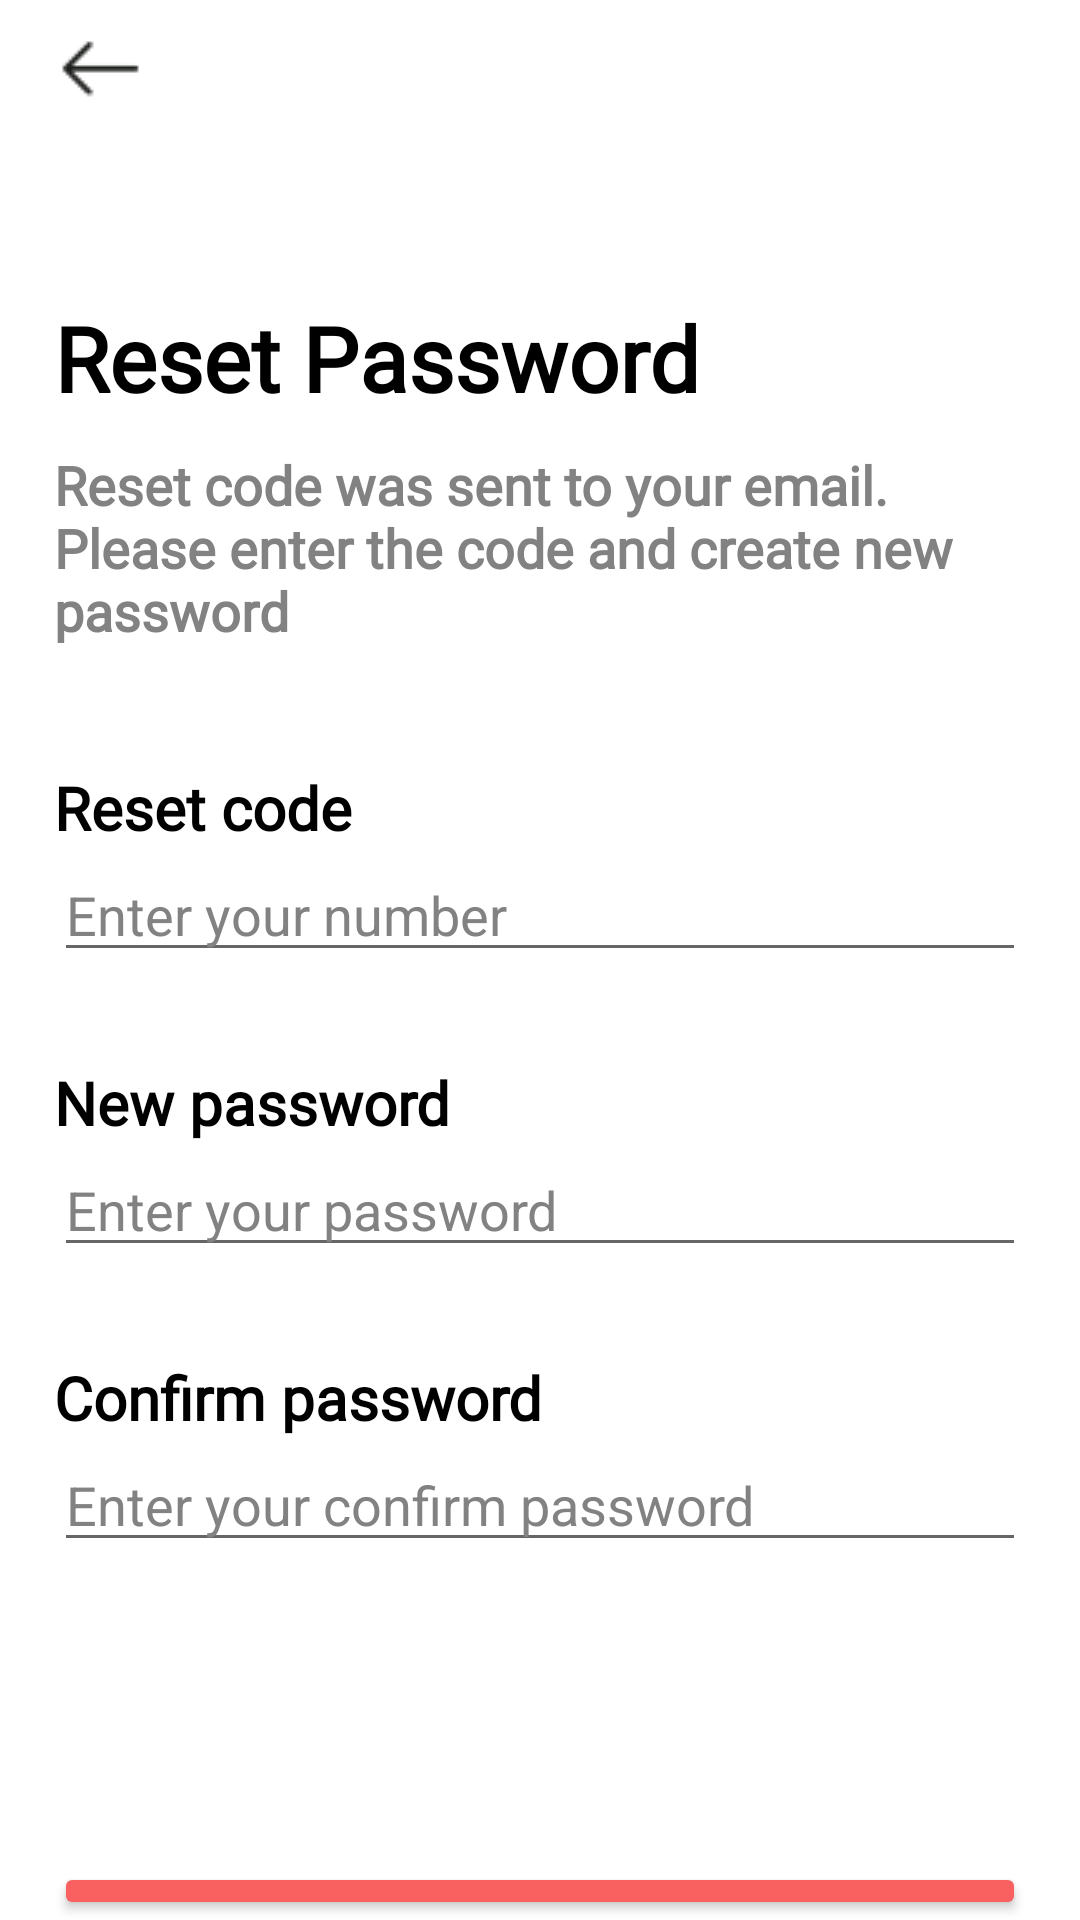

Icon bounding boxes for this 1080px×1920px phone screenshot, format (x1, y1, x2, y2):
back: (62, 41, 139, 97)
